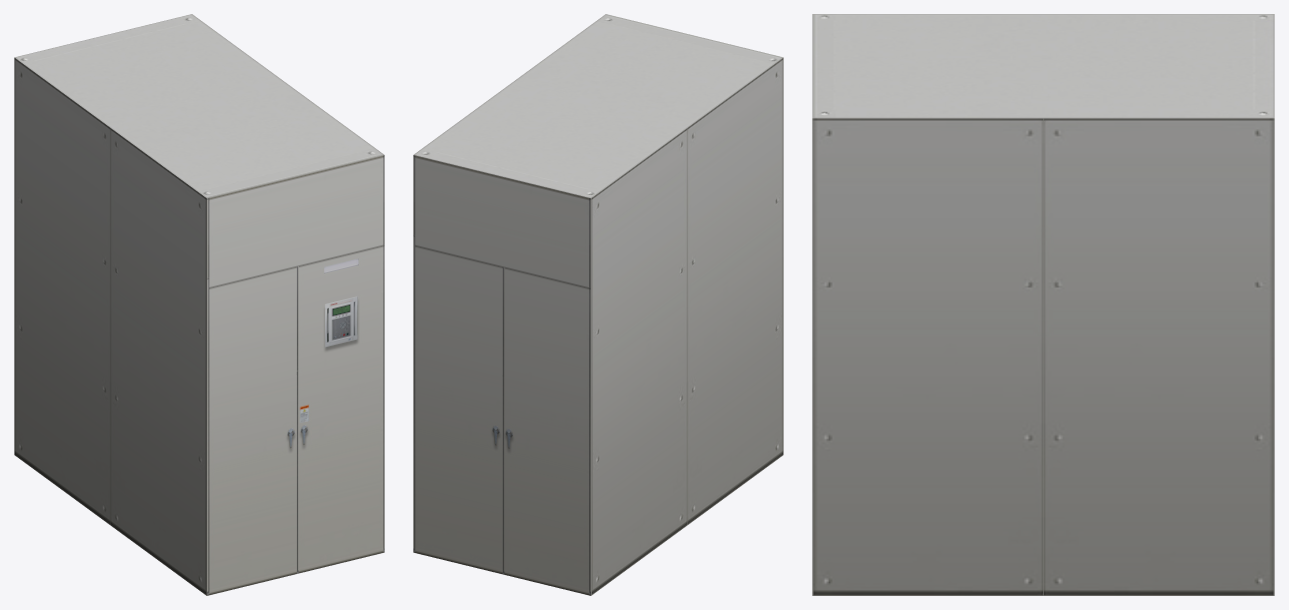
The model's file is ALTS02.gltf.
3 views of the same model, side by side, from view 1: azimuth 30°, elevation 25°; view 2: azimuth 150°, elevation 25°; view 3: azimuth 270°, elevation 25° (orthographic). The views are drawn at different scales.
Visible parts, largest first — view 1: ALTS-A1; view 2: ALTS-A1; view 3: ALTS-A1.
Boxes of the visible parts, left/top/right/bottom form: ALTS-A1: left=14, top=14, right=384, bottom=595; ALTS-A1: left=413, top=14, right=783, bottom=595; ALTS-A1: left=812, top=14, right=1274, bottom=595.
Size of the model in its own units: 1.6 by 3.42 by 3.
1 material, 1 textured.
